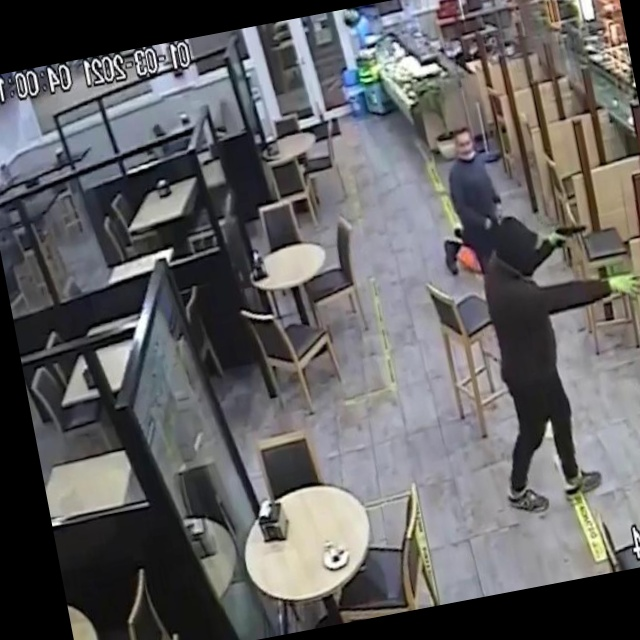gun: (541, 204, 609, 264)
